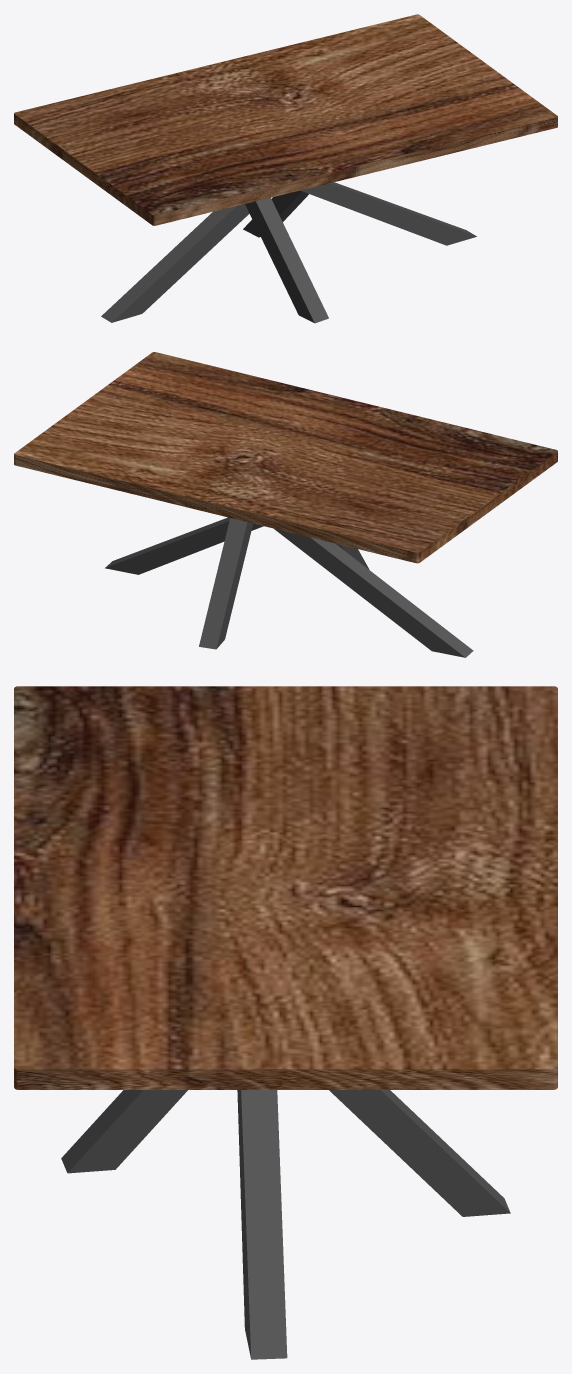
File: Table Pieds Croises.glb
The picture shows the model from 3 angles, top to bottom: view 1: azimuth 30°, elevation 25°; view 2: azimuth 150°, elevation 25°; view 3: azimuth 270°, elevation 25°; orthographic projection. The views are drawn at different scales.
Parts seen in each view (by area): view 1: Cube.011, Cube.008, Cube.005, Cube.006, Cube.001; view 2: Cube.011, Cube.008, Cube.001, Cube.006; view 3: Cube.011, Cube.006, Cube.001, Cube.005.
Part boxes in pixels (x1=…): Cube.011: x1=14, y1=14, x2=557, y2=225; Cube.008: x1=101, y1=204, x2=249, y2=322; Cube.005: x1=245, y1=197, x2=328, y2=323; Cube.006: x1=300, y1=182, x2=476, y2=245; Cube.001: x1=243, y1=190, x2=308, y2=237; Cube.011: x1=14, y1=352, x2=557, y2=563; Cube.008: x1=273, y1=528, x2=473, y2=657; Cube.001: x1=199, y1=518, x2=252, y2=649; Cube.006: x1=105, y1=517, x2=263, y2=574; Cube.011: x1=14, y1=686, x2=557, y2=1089; Cube.006: x1=237, y1=1090, x2=287, y2=1359; Cube.001: x1=329, y1=1090, x2=510, y2=1216; Cube.005: x1=61, y1=1090, x2=187, y2=1173.
Bounding box in the file's own units: 2 × 0.7535 × 1.2.
Materials: 2 (1 with a texture image).
